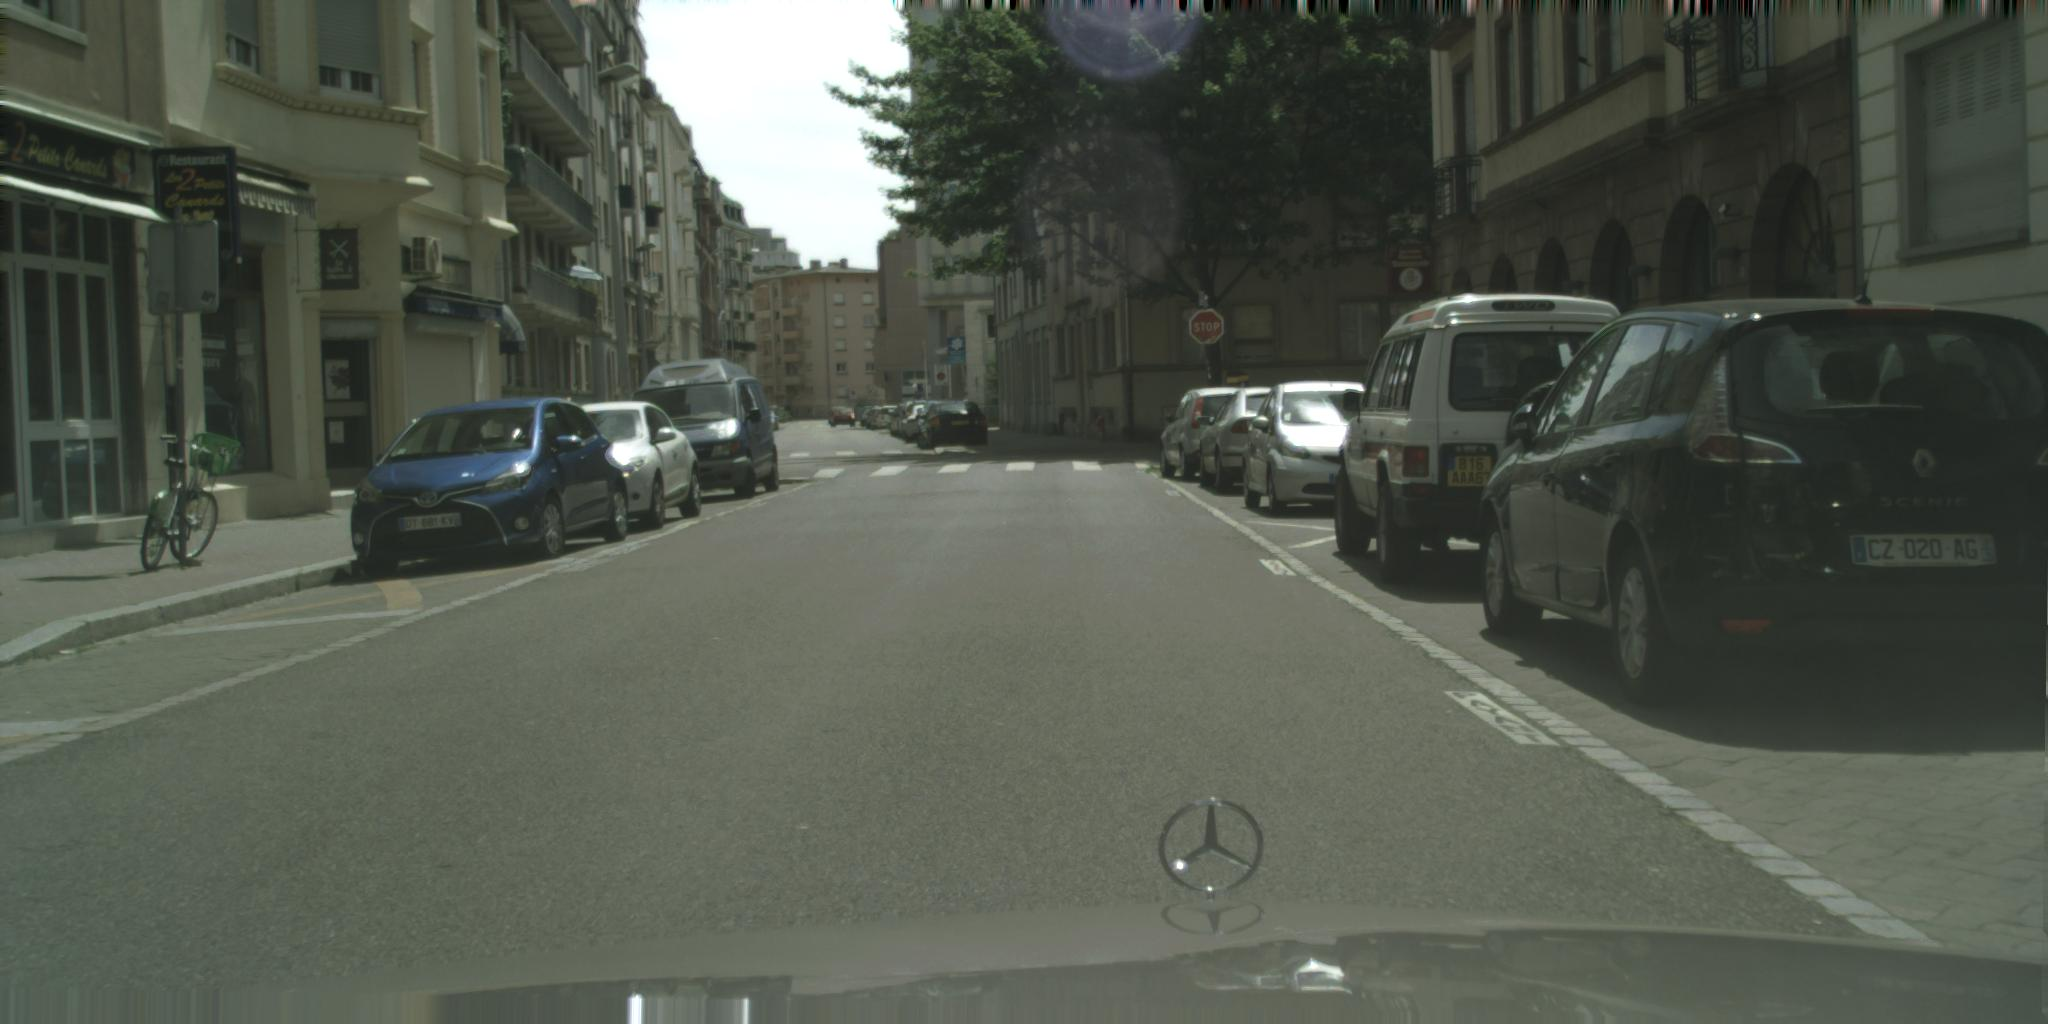bicycle: (142, 434, 248, 571)
car: (1480, 222, 2048, 707), (1335, 293, 1693, 586), (353, 398, 630, 579), (619, 358, 780, 500), (1241, 381, 1405, 519), (530, 401, 703, 530), (1196, 388, 1311, 494), (1161, 388, 1262, 483), (916, 402, 989, 451), (906, 401, 936, 443), (895, 401, 921, 440), (889, 402, 914, 438), (748, 408, 780, 432), (876, 406, 905, 428), (865, 406, 891, 428), (870, 408, 892, 431), (831, 409, 856, 428), (870, 408, 889, 431), (861, 408, 882, 428), (827, 406, 848, 426)
